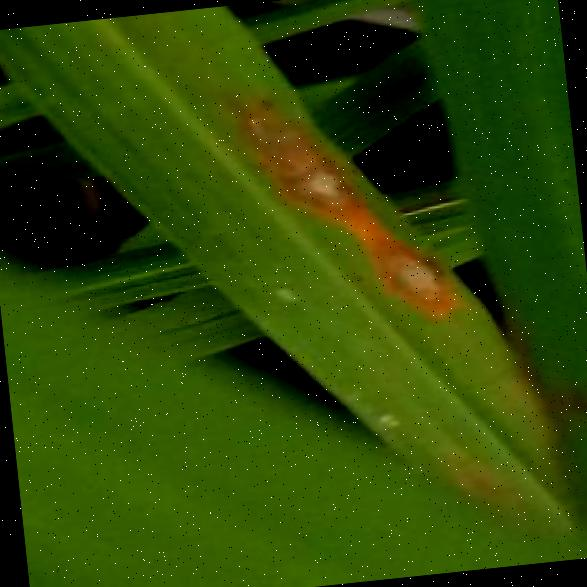Leaf_smut: (212, 70, 370, 234), (357, 225, 466, 323)
